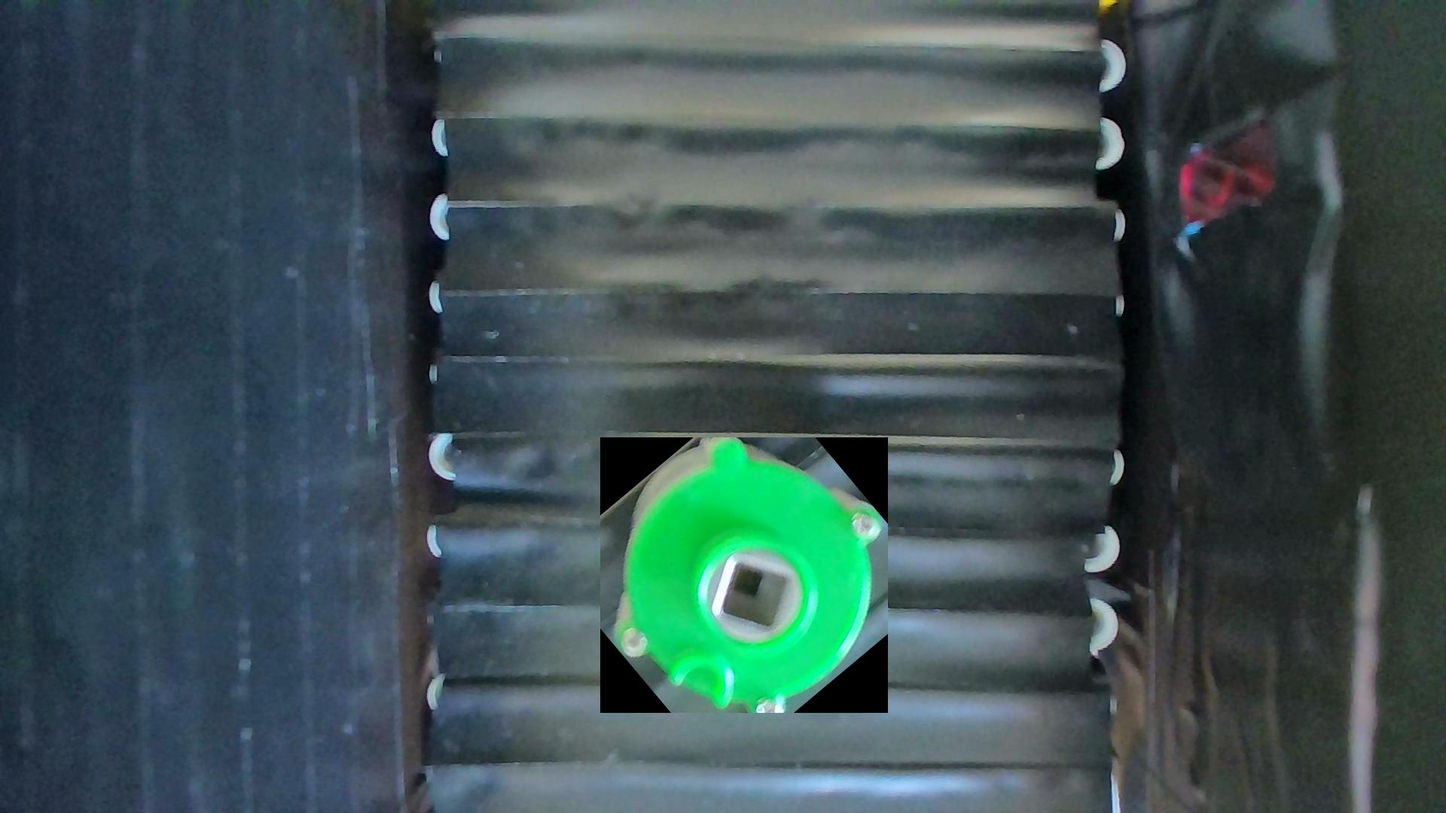cartridge: (600, 438, 888, 713)
